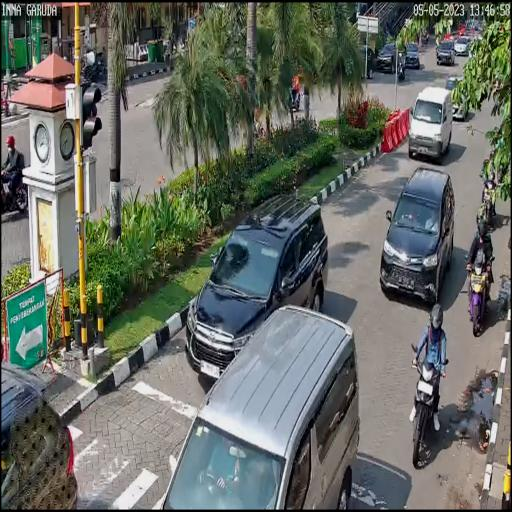mobil: (149, 305, 361, 512), (181, 188, 335, 385), (380, 169, 457, 308), (405, 85, 455, 167)
motor: (408, 335, 450, 465), (460, 240, 496, 341)
